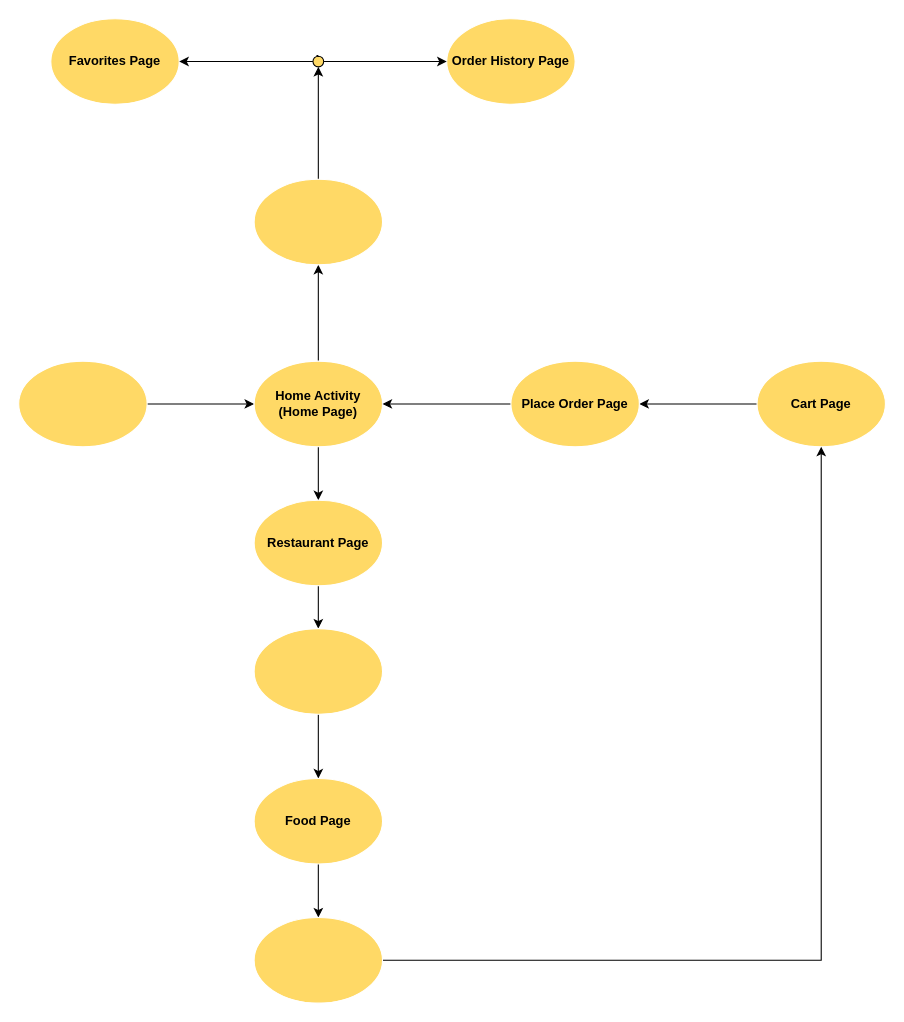
This 904x1022 diagram has some shape labels left out. The box of each missing label's shape, as (x1, y1, x2, y2) in pixels:
Activity Main (Login Page): (18, 360, 147, 447)
Food Detail Page: (253, 916, 383, 1003)
Menu Page: (253, 628, 383, 714)
Navigation Bar: (253, 178, 383, 265)
